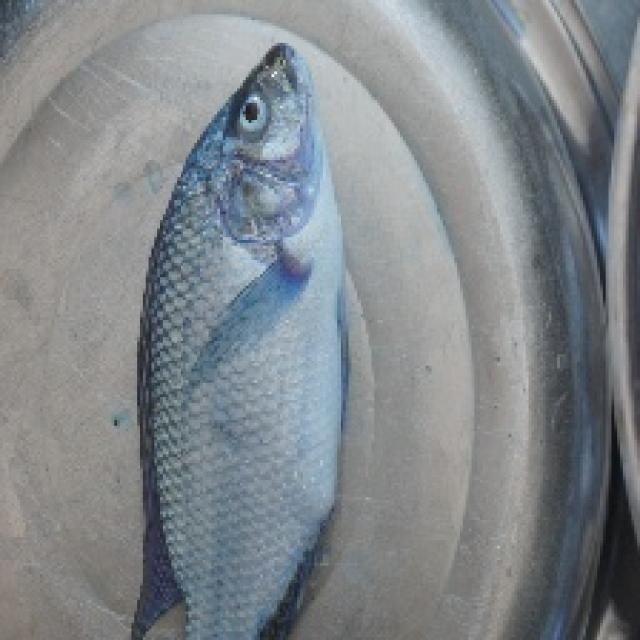Fresh: (120, 25, 408, 588)
